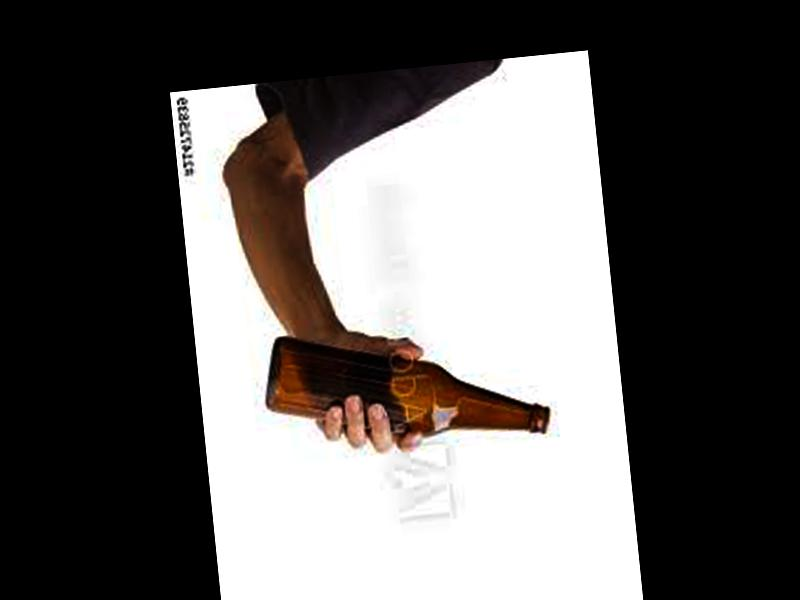Beer: (259, 310, 552, 463)
